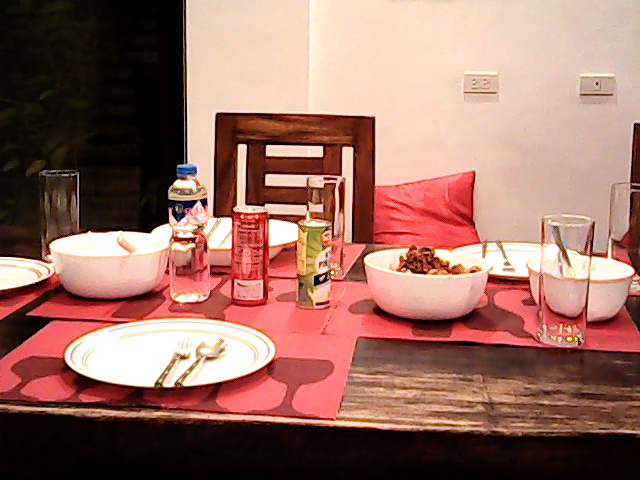Cola: (223, 200, 272, 307)
Pine Juice: (291, 216, 335, 309)
Summit Water: (158, 163, 216, 308)
